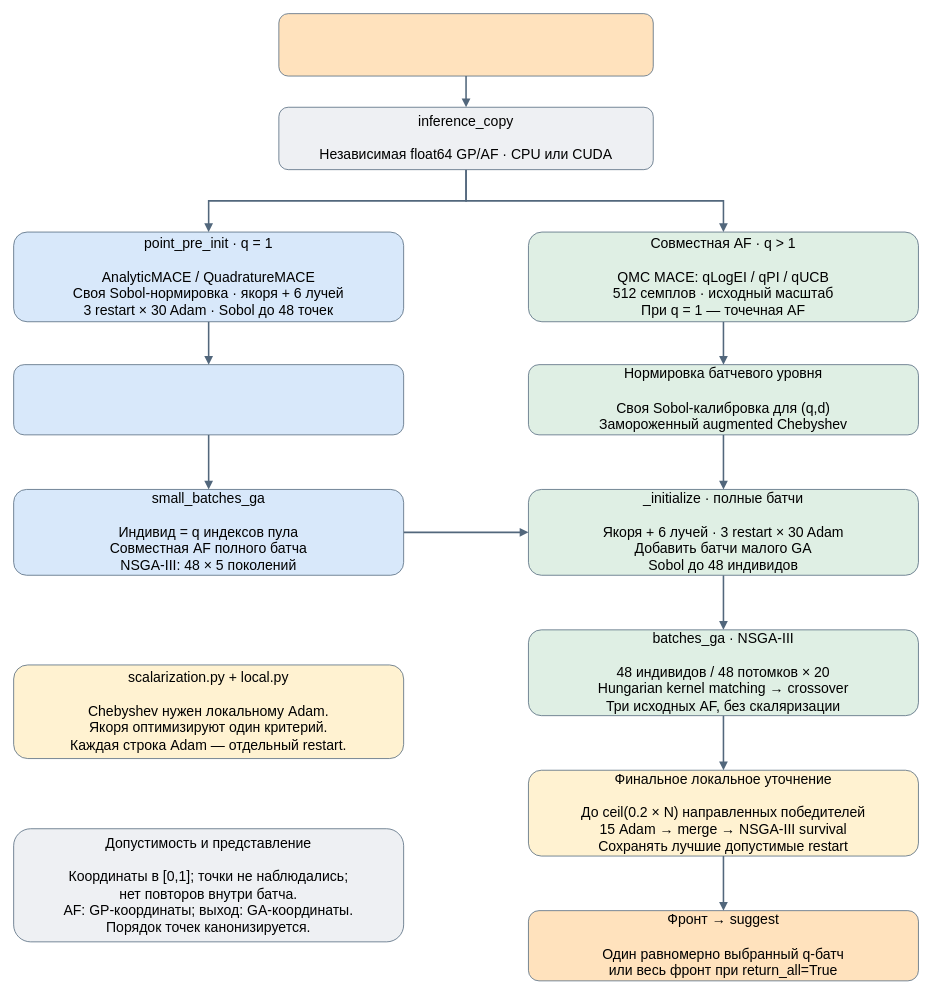
Some shapes in this 932 by 994 pixel diagram are drawn without their labels. Each missing label, with the centre of its shape:
"Наблюдения X, y GP fit на CPU · input warp · YJ + gate" goes at (x=465, y=44).
"Пул точек Недоминируемые слои · novel / unique Ограничение pool_size = 96" goes at (x=208, y=399).
